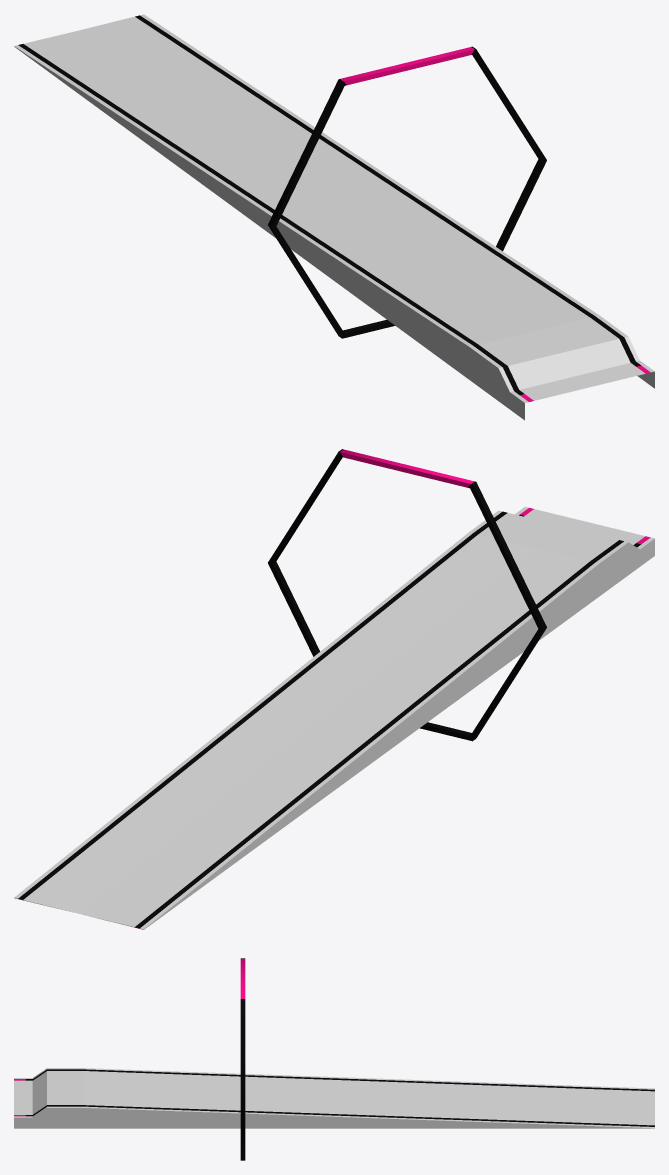
The model's file is StageBack.fbx.
The picture shows the model from 3 angles, top to bottom: view 1: azimuth 30°, elevation 25°; view 2: azimuth 150°, elevation 25°; view 3: azimuth 270°, elevation 25°; orthographic projection. The views are drawn at different scales.
Parts seen in each view (by area): view 1: Ramp, Object, Object002; view 2: Ramp, Object002, Object; view 3: Ramp, Object002, Object.
Boxes of the visible parts, box(x1,y1,x2,y2) form: Ramp: box(14, 14, 654, 420); Object: box(268, 46, 546, 338); Object002: box(18, 15, 650, 401); Ramp: box(14, 507, 654, 929); Object002: box(18, 508, 650, 928); Object: box(268, 449, 546, 741); Ramp: box(14, 1068, 654, 1128); Object002: box(14, 1069, 654, 1126); Object: box(240, 958, 245, 1160).
Size of the model in its own units: 8.75 by 7.78 by 28.06.
